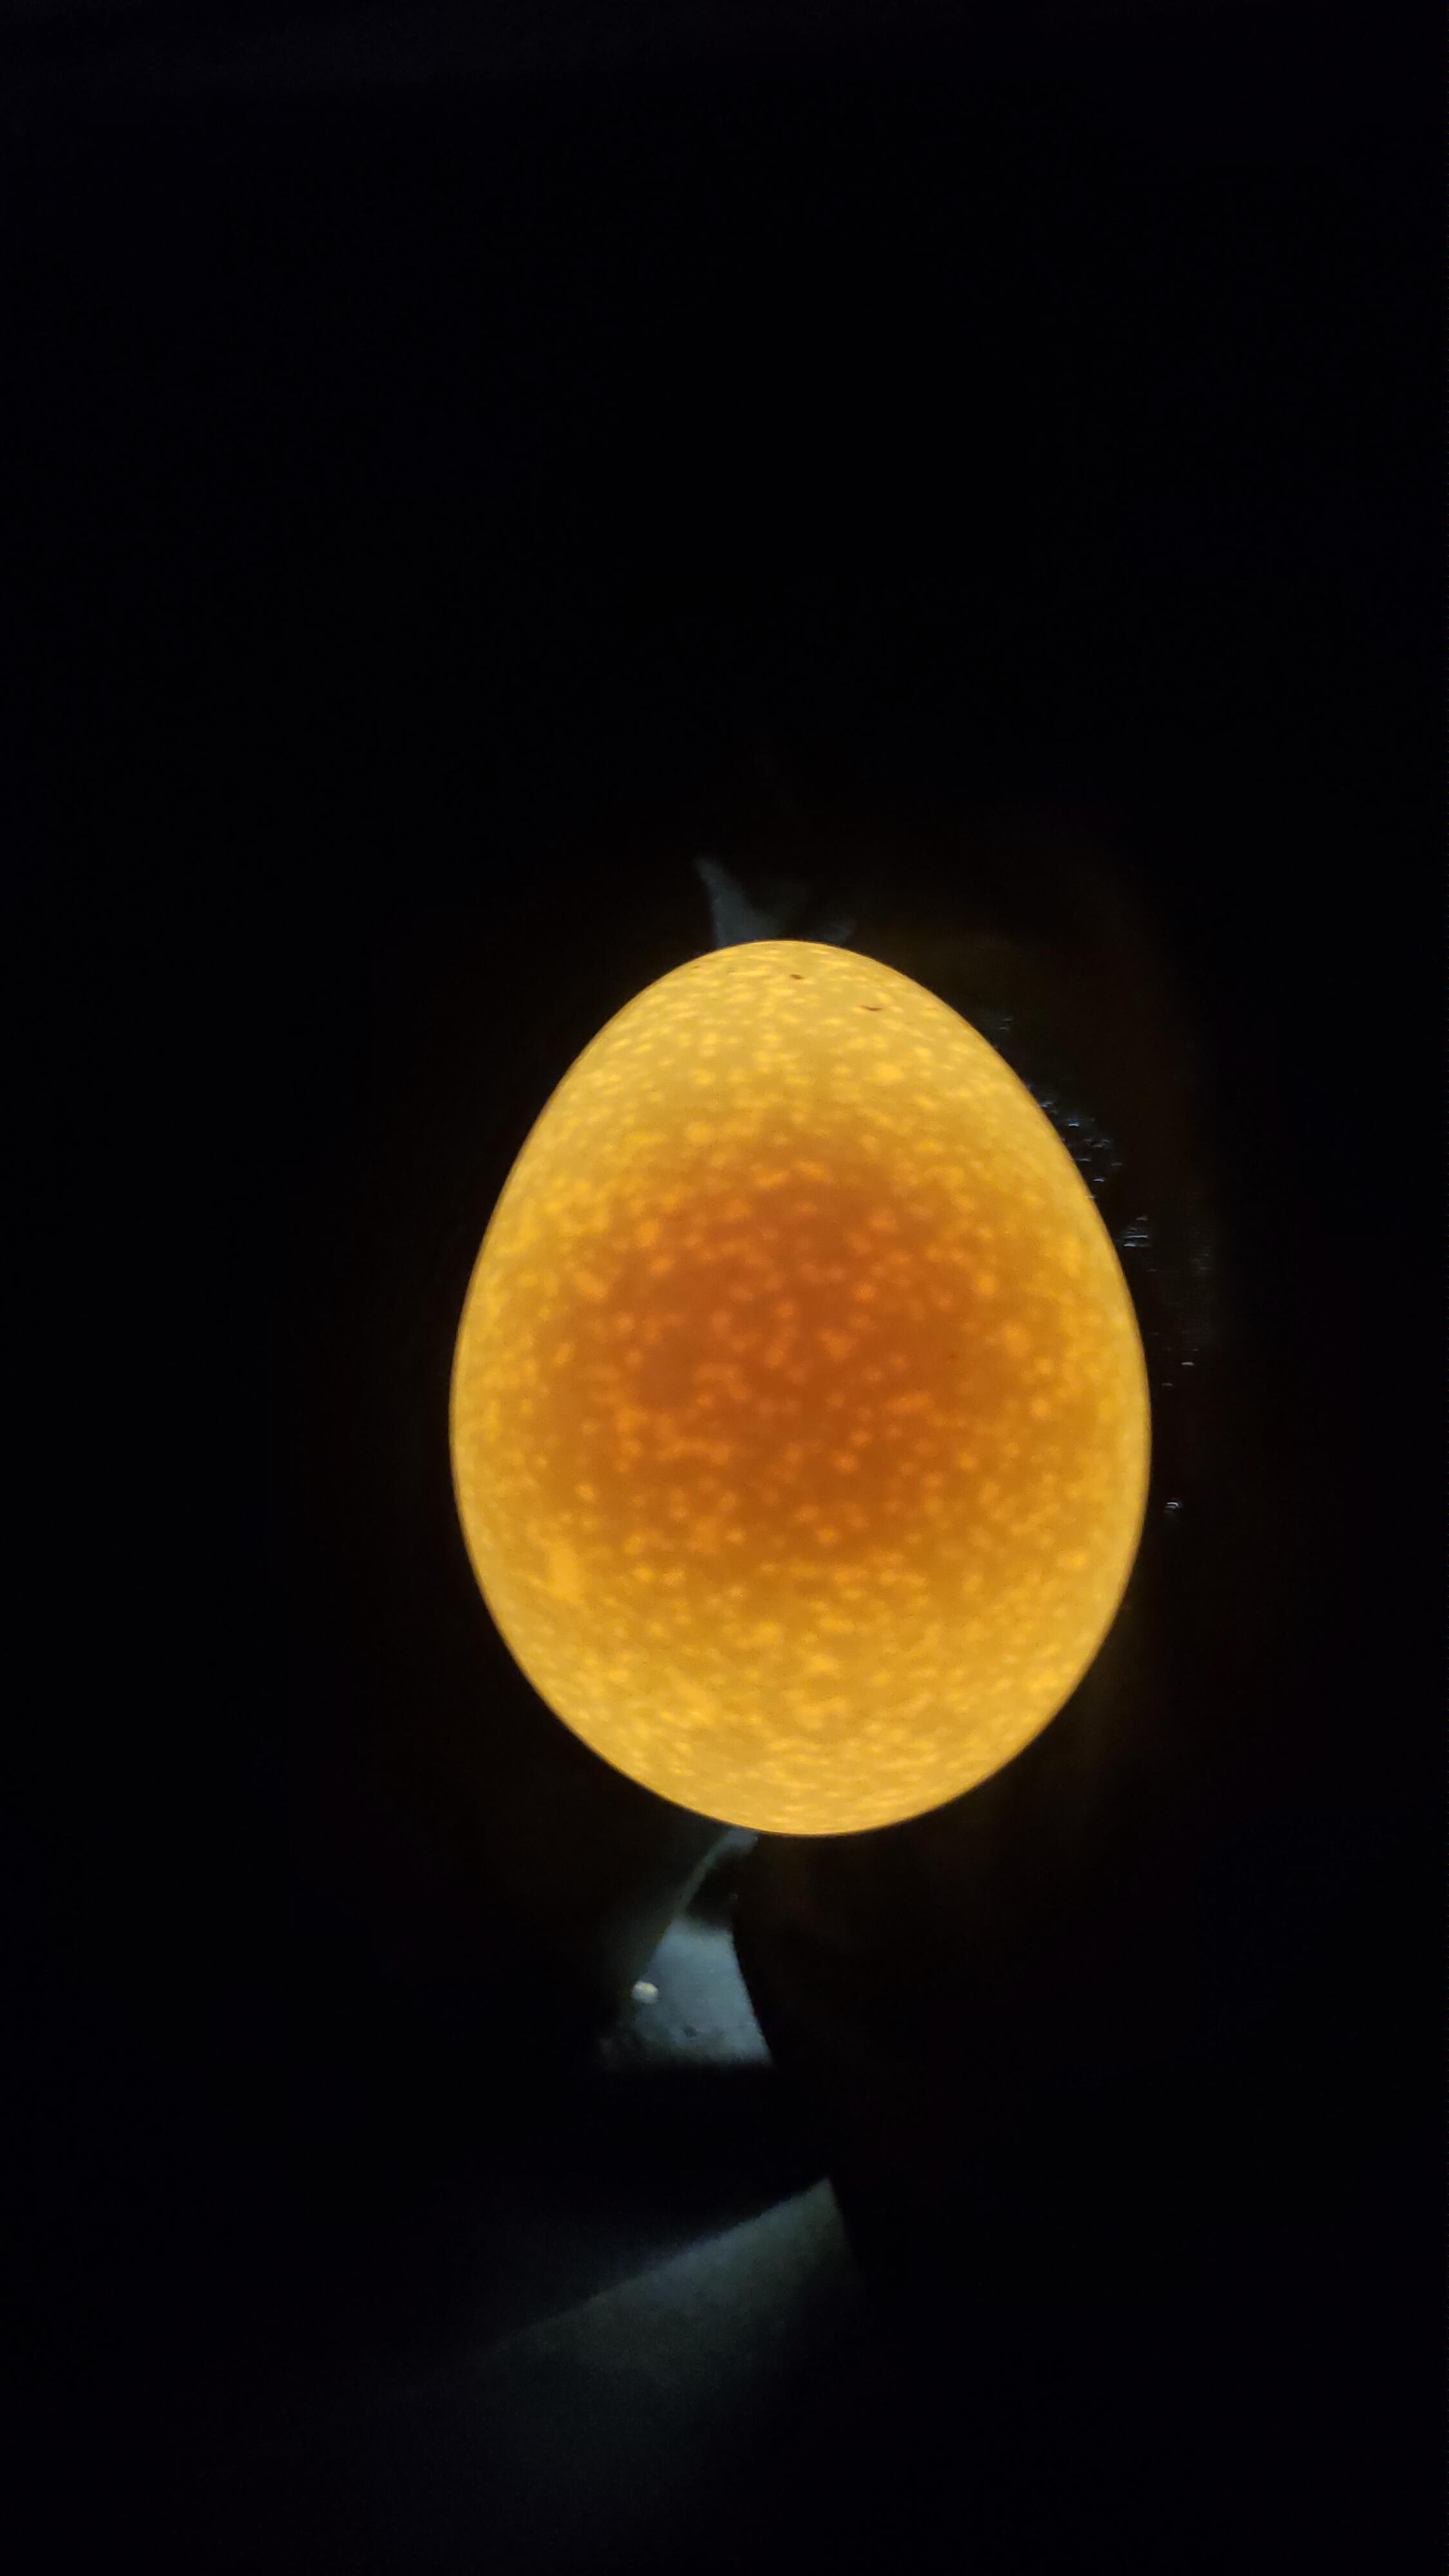A - Good: (432, 908, 1198, 1874)
